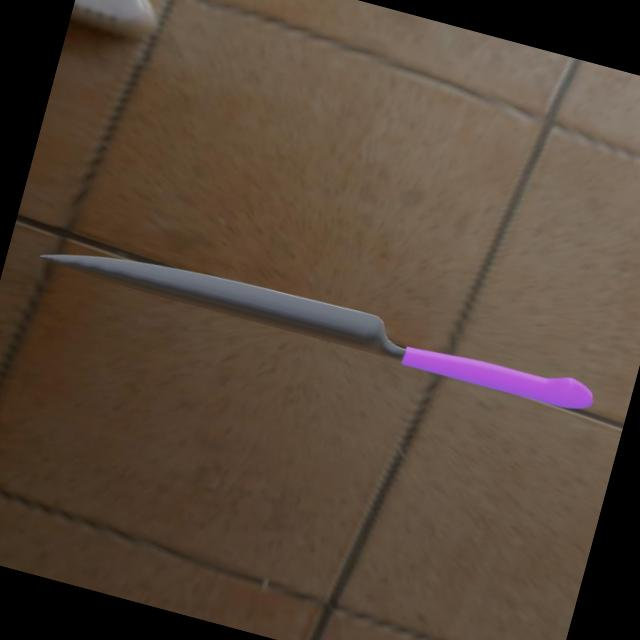knife: (398, 333, 598, 413)
